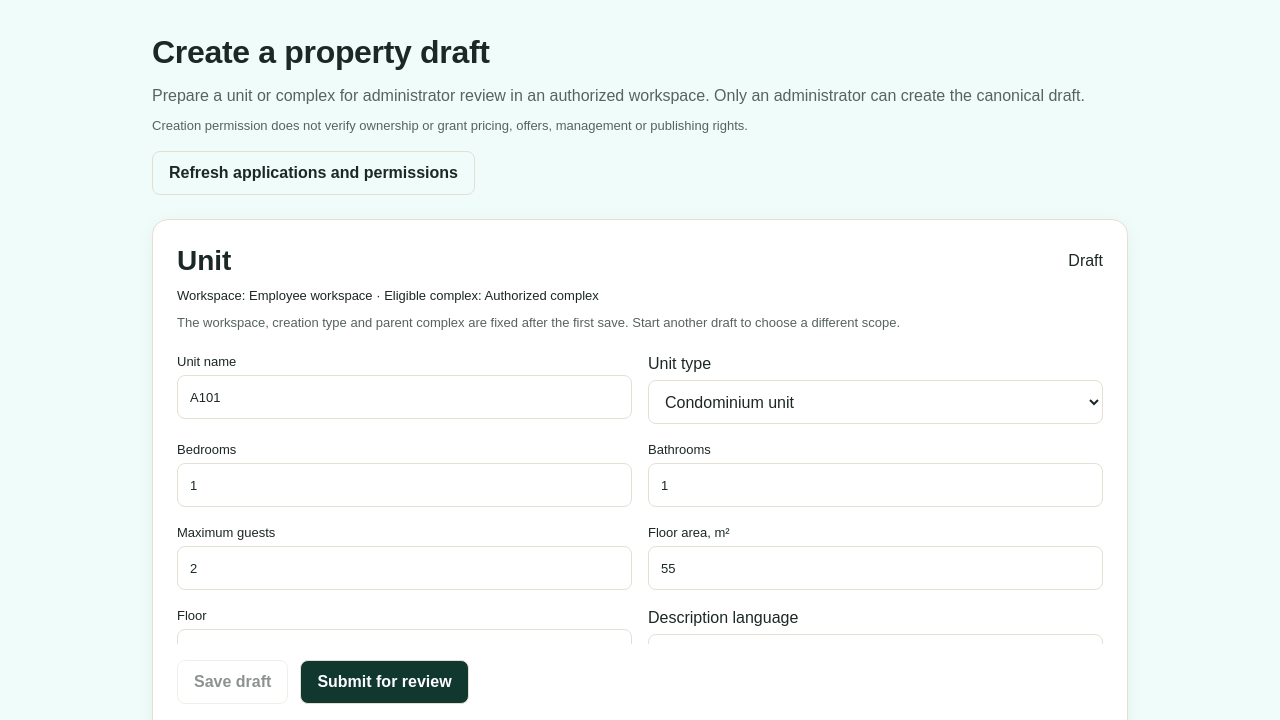
Test: employee creation editor › freezes editing after permission revocation and preserves descriptive inputs
This screenshot has width=1280, height=720.
Replace the text in the field labelled "Unit name" with "Kept edit": (404, 397) [177,375,632,419]
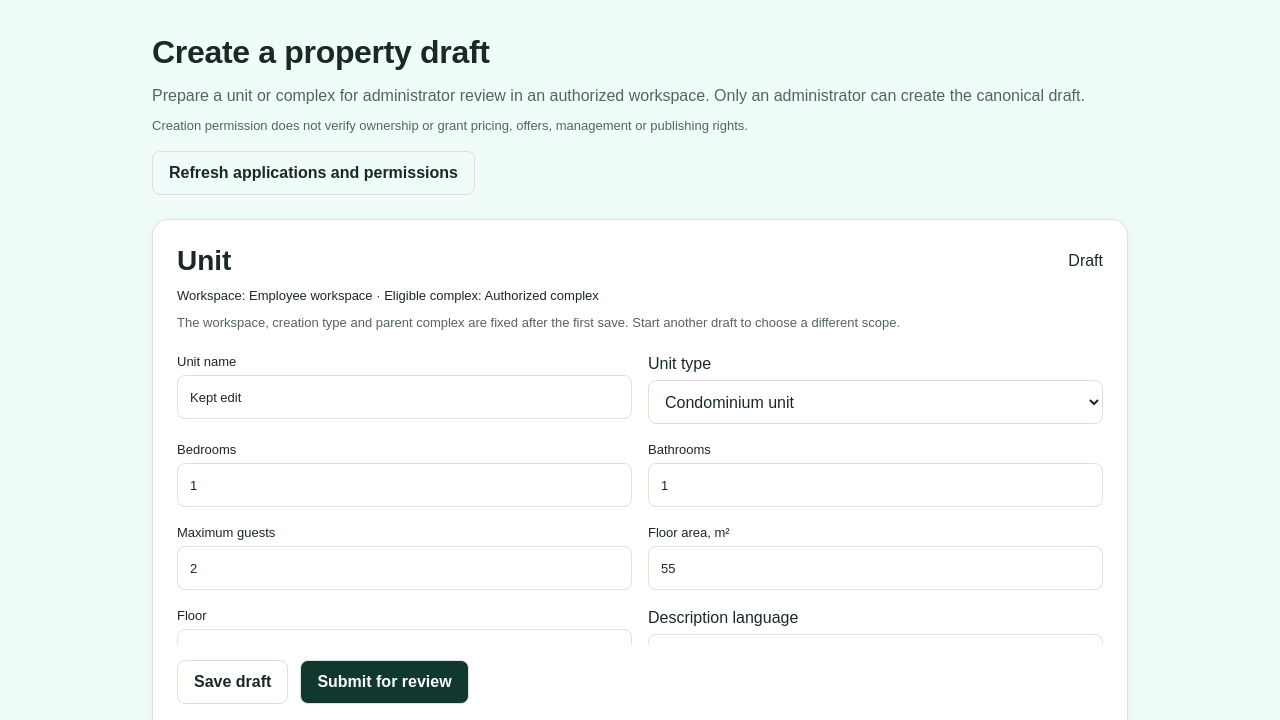
Click the button "Save draft": (233, 682) [177,660,288,704]
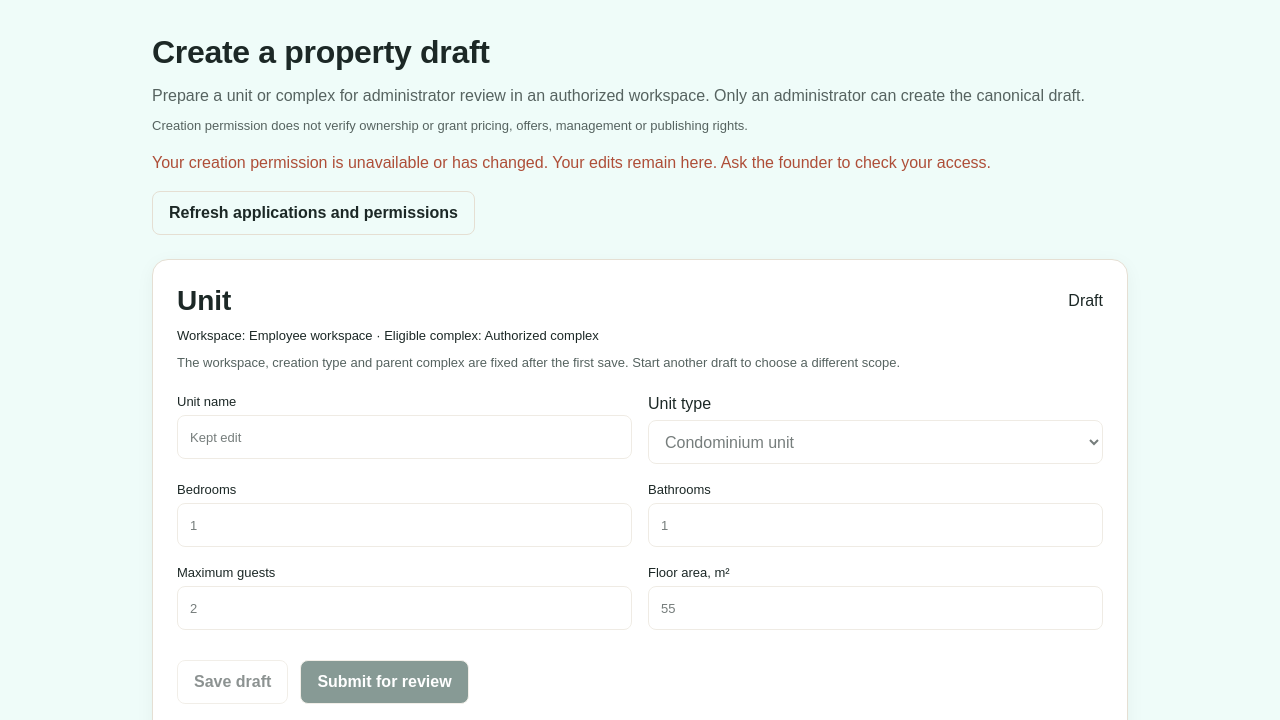
Check: the field labelled "Unit name" is disabled, box [177,415,632,459]
Check: the text "Your creation permission is unavailable or has changed. Your edits remain here. Ask the founder to check your access." is shown, box [152,154,991,171]
